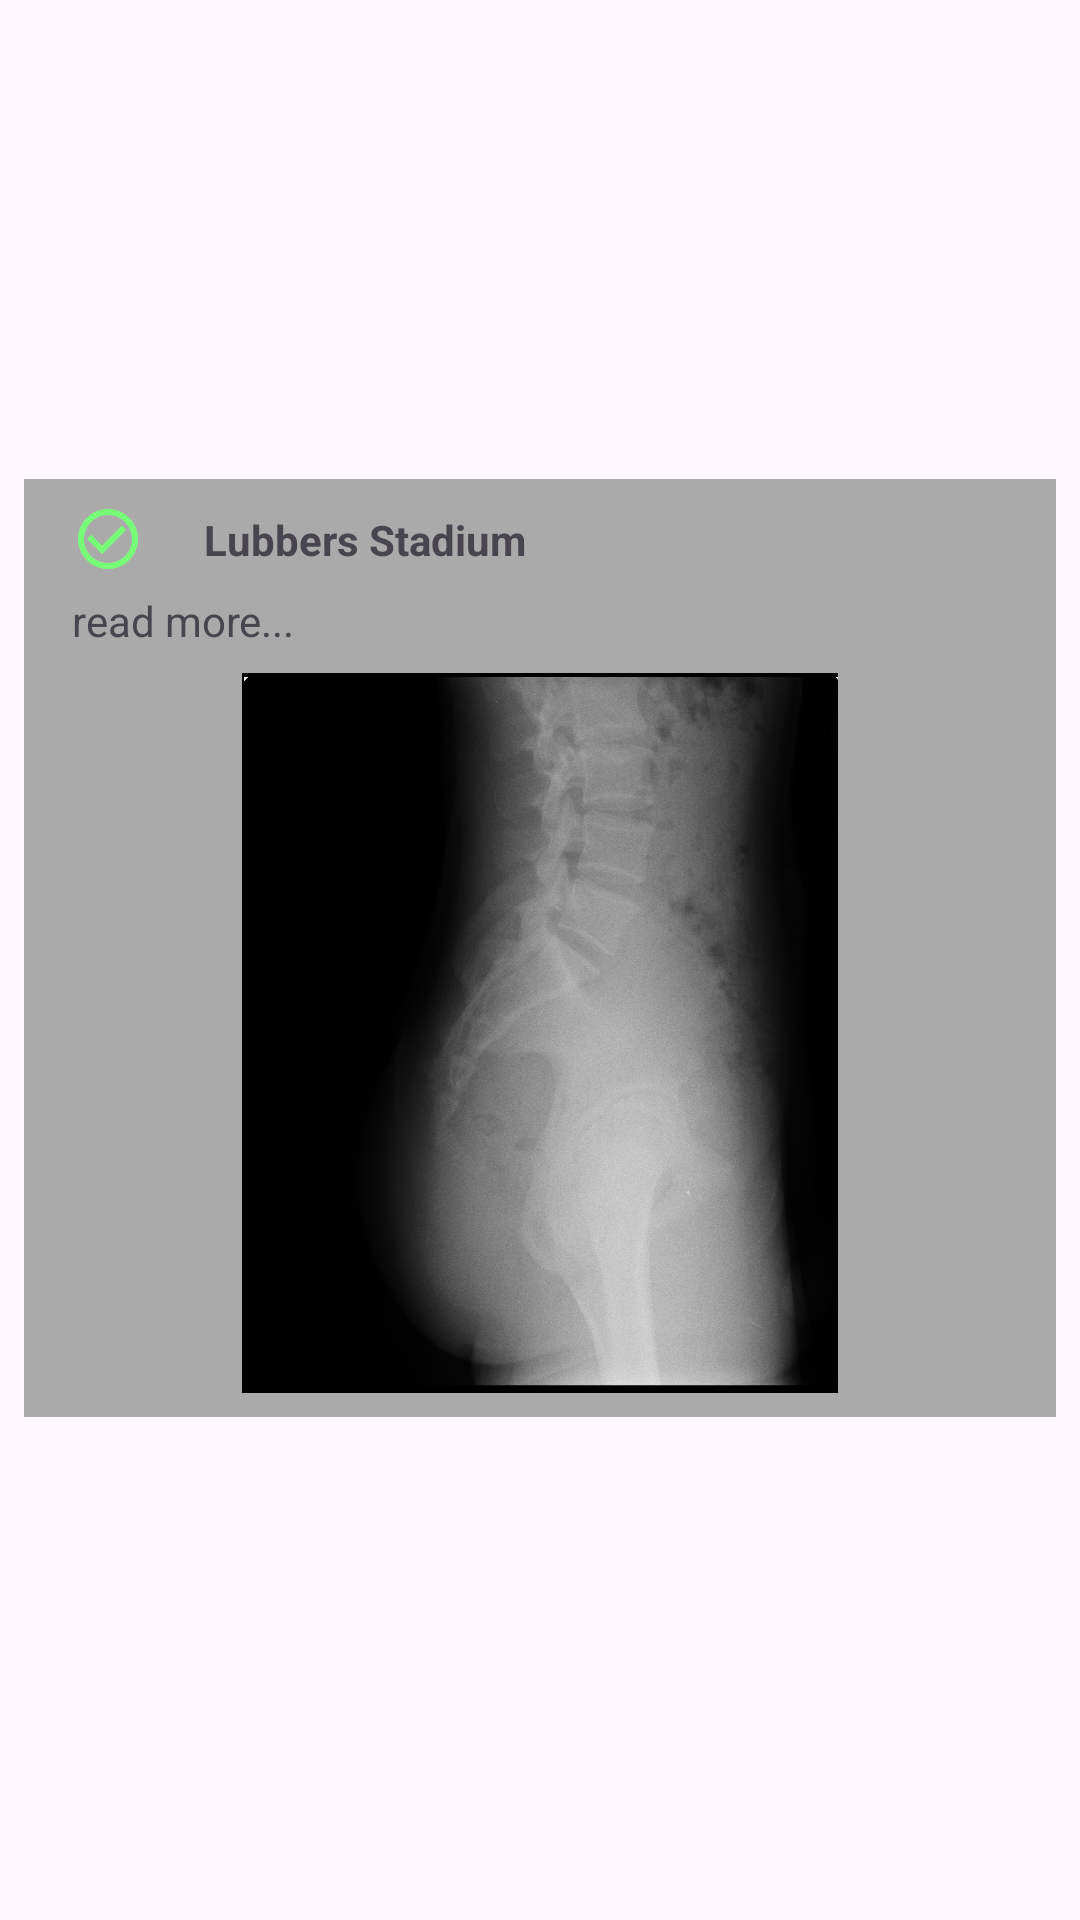

Icon click points for this 1080×1920 phone screenshot, format [x,y]:
check: [108,539]
